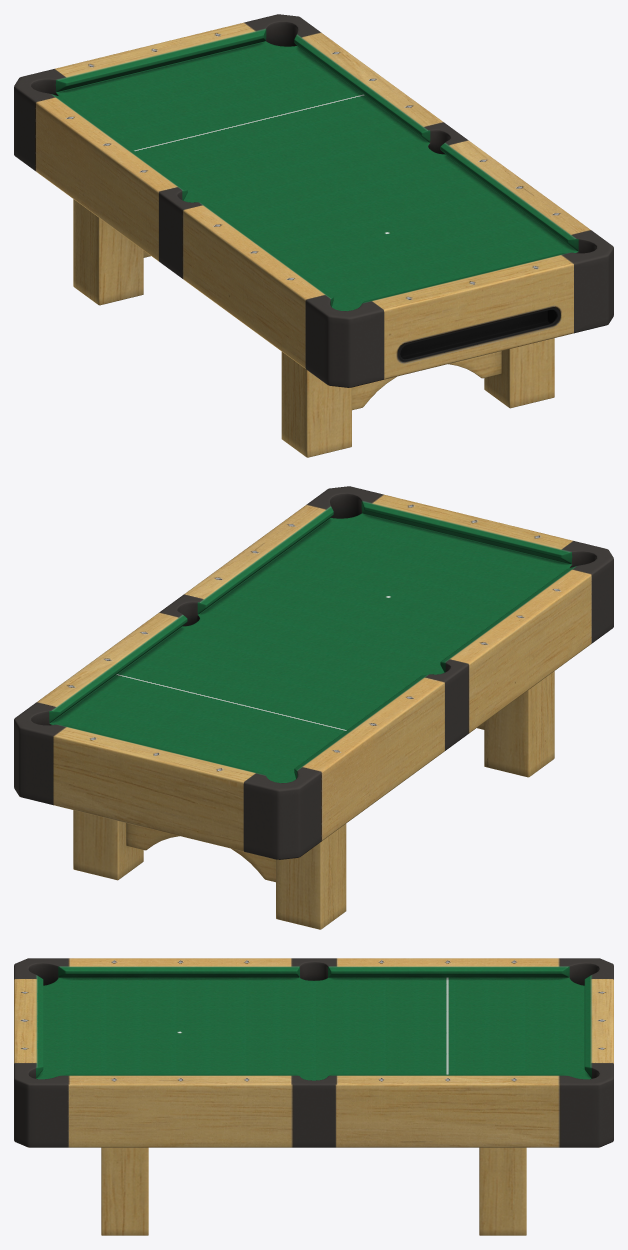
Rendered from poolTable.glb.
The picture shows the model from 3 angles, top to bottom: view 1: azimuth 30°, elevation 25°; view 2: azimuth 150°, elevation 25°; view 3: azimuth 270°, elevation 25°; orthographic projection. The views are drawn at different scales.
Visible parts, largest first — view 1: PoolTable; view 2: PoolTable; view 3: PoolTable.
Boxes of the visible parts, x1,y1,x2,y2 form: PoolTable: (14, 14, 613, 457); PoolTable: (14, 486, 613, 929); PoolTable: (14, 958, 613, 1235).
Size of the model in its own units: 127 by 76.2 by 254.
1 material, 1 textured.
